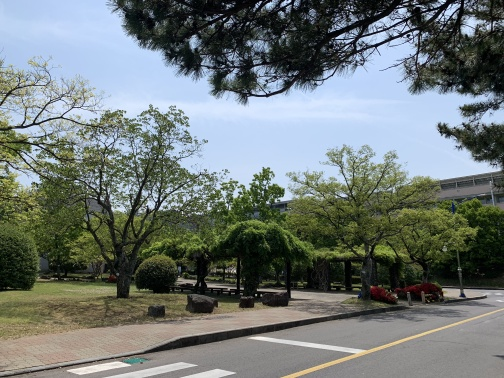College Of Education: (327, 172, 504, 232)
